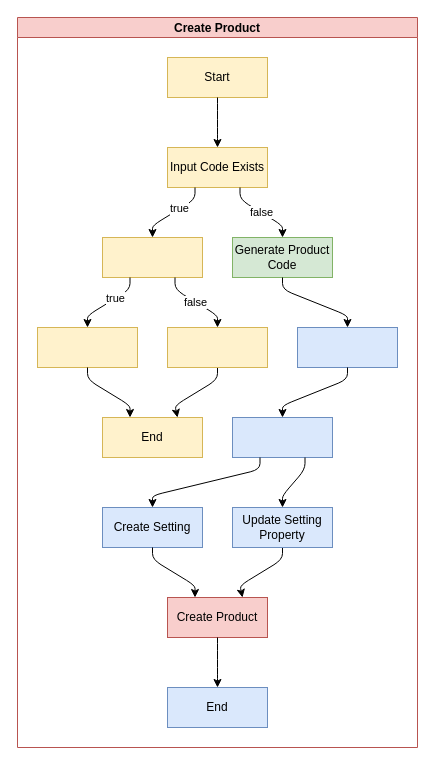
This 435x765 diagram has some shape labels left out. The shapes that lost their labels are listed below. From the top down, each one's centre as x and y in pixels, then its label:
At pixel 152 257: "Product Code Exists".
At pixel 87 347: "Error".
At pixel 217 347: "Create".
At pixel 347 347: "Get Setting By Key".
At pixel 282 437: "Setting Exists".
